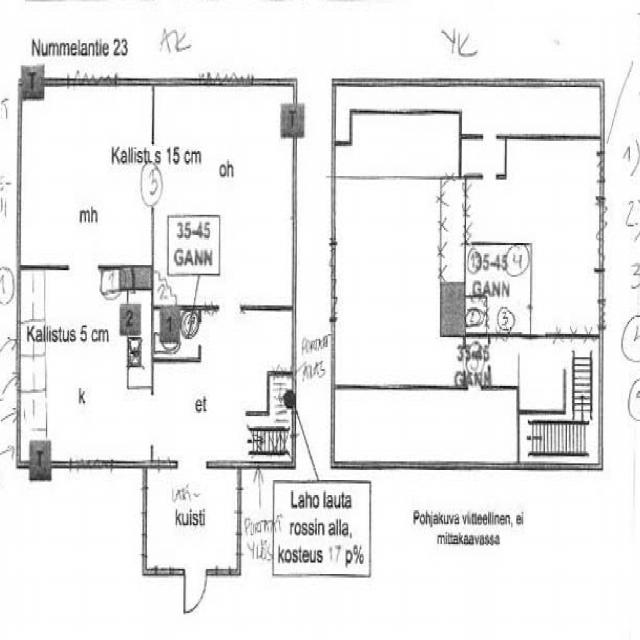door: (184, 569, 207, 611), (151, 175, 175, 208), (151, 143, 175, 175)
